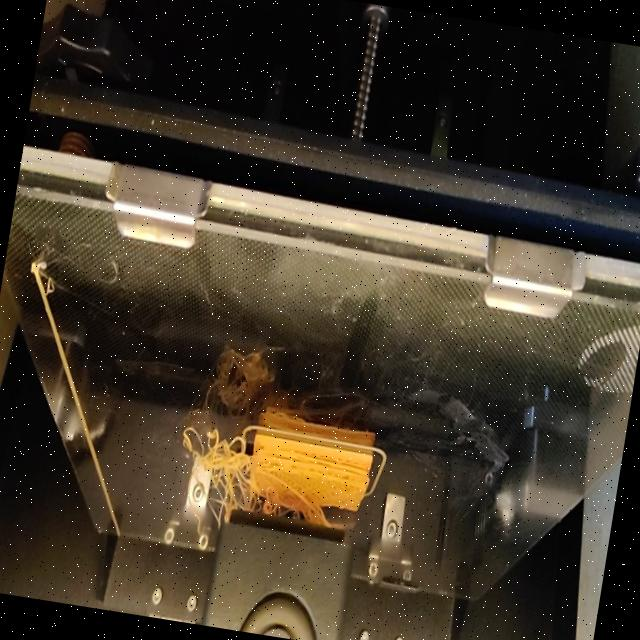spaghetti: (168, 418, 255, 532)
